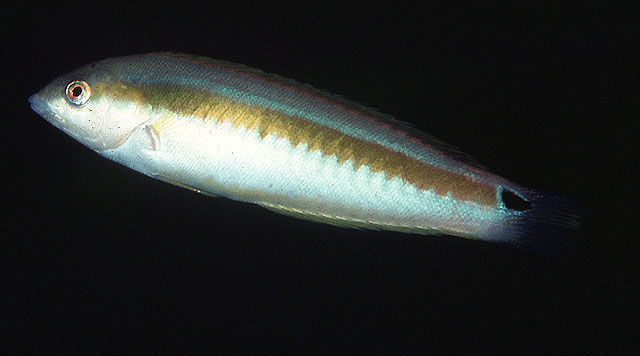fish: (28, 52, 580, 259)
